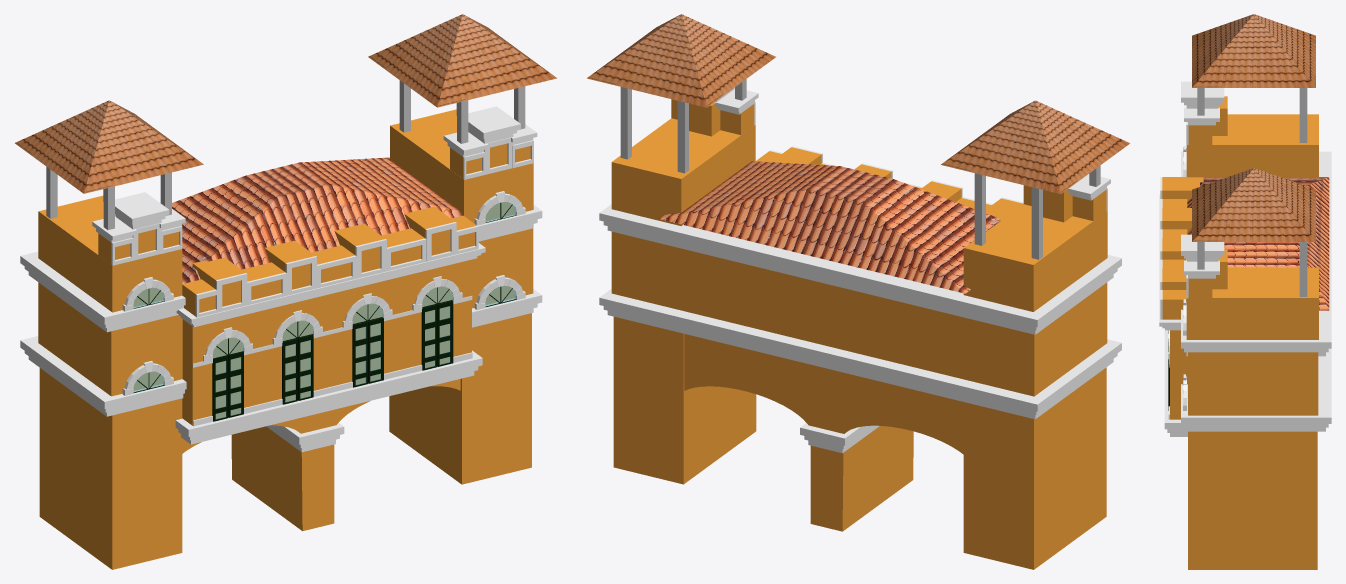
Rendered from mercado_portal.FBX.
3 renders of one model, left to right at view 1: azimuth 30°, elevation 25°; view 2: azimuth 150°, elevation 25°; view 3: azimuth 270°, elevation 25°, orthographic. The views are drawn at different scales.
Parts seen in each view (by area): view 1: Box551, Box682, Box514, Box563, Pyramid002, Pyramid001, Box552, Box582, Box580, Box527, Box576, Box475 (+20 smaller); view 2: Box563, Box682, Box551, Box552, Box514, Box581, Box568, Box582, Pyramid001, Pyramid002, Box580, Box553 (+8 smaller); view 3: Box514, Box563, Box580, Pyramid001, Pyramid002, Box582, Box682, Box568, Box581, Box501, Box668, Box672 (+15 smaller).
Part boxes in pixels (left/top/right/bottom): Box551: left=39, top=368, right=182, bottom=569; Box682: left=172, top=157, right=462, bottom=283; Box514: left=389, top=313, right=531, bottom=484; Box563: left=38, top=228, right=533, bottom=396; Pyramid002: left=368, top=14, right=556, bottom=107; Pyramid001: left=15, top=100, right=203, bottom=193; Box552: left=182, top=379, right=460, bottom=531; Box582: left=38, top=195, right=182, bottom=312; Box580: left=390, top=109, right=533, bottom=223; Box527: left=182, top=310, right=262, bottom=425; Box576: left=175, top=350, right=482, bottom=444; Box475: left=262, top=293, right=332, bottom=403; Box563: left=611, top=231, right=1107, bottom=396; Box682: left=658, top=161, right=999, bottom=293; Box551: left=963, top=367, right=1106, bottom=569; Box552: left=684, top=334, right=963, bottom=531; Box514: left=613, top=316, right=756, bottom=484; Box581: left=599, top=204, right=1121, bottom=334; Box568: left=599, top=289, right=1121, bottom=419; Box582: left=963, top=204, right=1107, bottom=311; Pyramid001: left=941, top=100, right=1129, bottom=193; Pyramid002: left=587, top=14, right=775, bottom=107; Box580: left=611, top=118, right=755, bottom=226; Box553: left=800, top=423, right=879, bottom=453; Box514: left=1188, top=431, right=1317, bottom=569; Box563: left=1188, top=352, right=1318, bottom=415; Box580: left=1186, top=267, right=1318, bottom=339; Pyramid001: left=1192, top=14, right=1315, bottom=87; Pyramid002: left=1192, top=168, right=1315, bottom=241; Box582: left=1186, top=114, right=1318, bottom=177; Box682: left=1187, top=177, right=1329, bottom=310; Box568: left=1181, top=348, right=1331, bottom=431; Box581: left=1181, top=151, right=1331, bottom=356; Box501: left=1170, top=330, right=1187, bottom=419; Box668: left=1181, top=81, right=1224, bottom=108; Box672: left=1181, top=234, right=1224, bottom=261.
Bounding box in the file's own units: 775 × 694 × 274.
